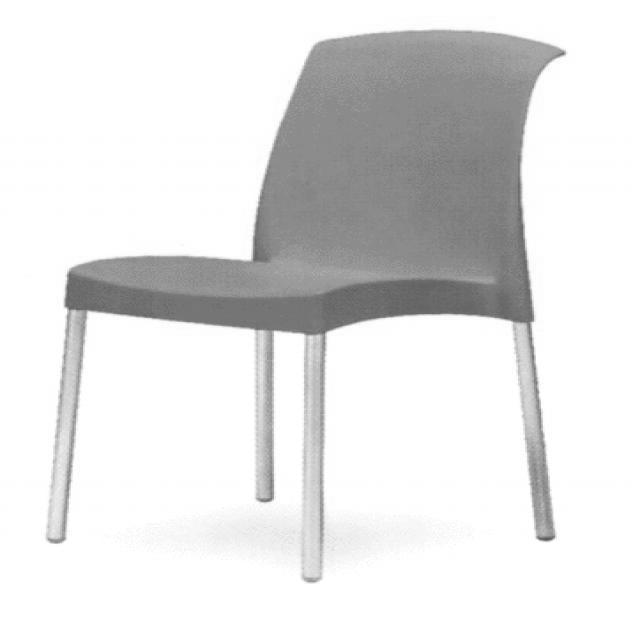chair: (43, 27, 570, 584)
